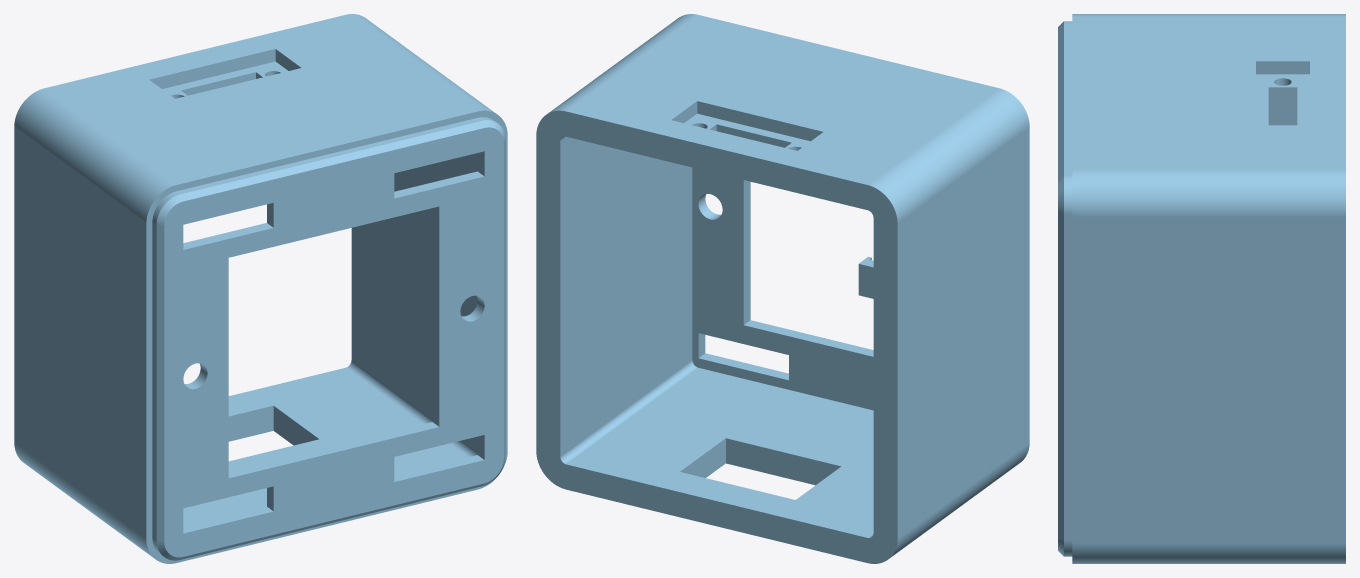
The model's file is matrix-lamp-part - base.obj.
The picture shows the model from 3 angles, left to right: view 1: azimuth 30°, elevation 25°; view 2: azimuth 150°, elevation 25°; view 3: azimuth 270°, elevation 25°; orthographic projection. The views are drawn at different scales.
Parts seen in each view (by area): view 1: mesh73, mesh19, mesh15, mesh8, mesh50, mesh18, mesh56, mesh69, mesh72, mesh20, mesh76, mesh16 (+14 smaller); view 2: mesh19, mesh15, mesh22, mesh8, mesh50, mesh74, mesh18, mesh52, mesh20, mesh9, mesh16, mesh12 (+5 smaller); view 3: mesh17, mesh15, mesh16, mesh21, mesh60, mesh68, mesh10, mesh58, mesh18, mesh72, mesh11, mesh25 (+1 smaller).
Boxes of the visible parts, x1,y1,x2,y2 form: mesh73: (164, 127, 503, 557); mesh19: (14, 127, 146, 538); mesh15: (45, 15, 477, 184); mesh8: (351, 153, 477, 451); mesh50: (183, 368, 467, 526); mesh18: (14, 88, 175, 223); mesh56: (146, 110, 507, 563); mesh69: (156, 225, 164, 541); mesh72: (181, 121, 484, 201); mesh20: (14, 442, 153, 557); mesh76: (432, 206, 439, 426); mesh16: (346, 14, 495, 113); mesh19: (897, 127, 1029, 538); mesh15: (566, 15, 998, 184); mesh22: (536, 110, 897, 563); mesh8: (560, 137, 692, 456); mesh50: (566, 368, 873, 537); mesh74: (692, 167, 873, 410); mesh18: (868, 88, 1029, 223); mesh52: (726, 438, 840, 485); mesh20: (890, 442, 1029, 557); mesh9: (560, 360, 697, 464); mesh16: (548, 14, 697, 113); mesh12: (697, 101, 822, 141); mesh17: (1072, 217, 1345, 543); mesh15: (1072, 17, 1345, 169); mesh16: (1072, 169, 1345, 217); mesh21: (1072, 543, 1345, 563); mesh60: (1064, 214, 1072, 540); mesh68: (1058, 212, 1063, 539); mesh10: (1256, 74, 1309, 125); mesh58: (1064, 24, 1072, 175); mesh18: (1072, 14, 1345, 17); mesh72: (1058, 24, 1063, 180); mesh11: (1256, 61, 1309, 74); mesh25: (1268, 100, 1284, 125).
Size of the model in its own units: 0.06 by 0.06 by 0.04.
